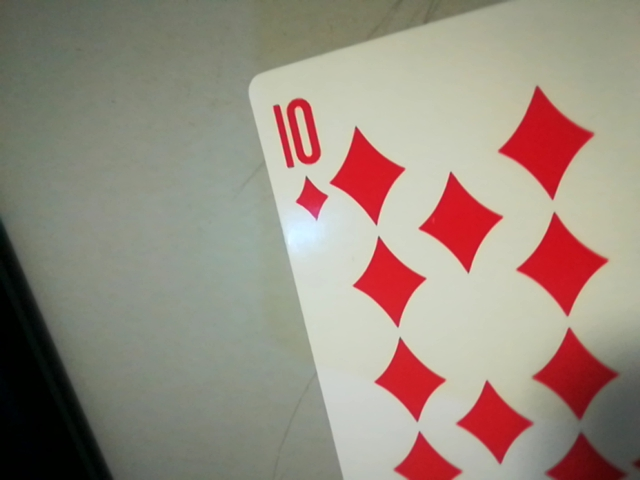fk 10: (262, 88, 334, 226)
